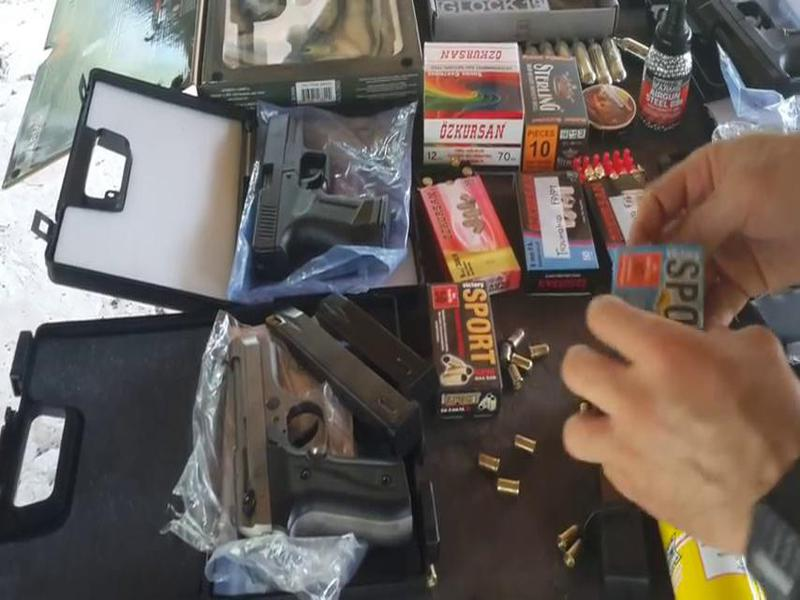Pistola: (207, 318, 415, 563), (248, 92, 421, 294)
